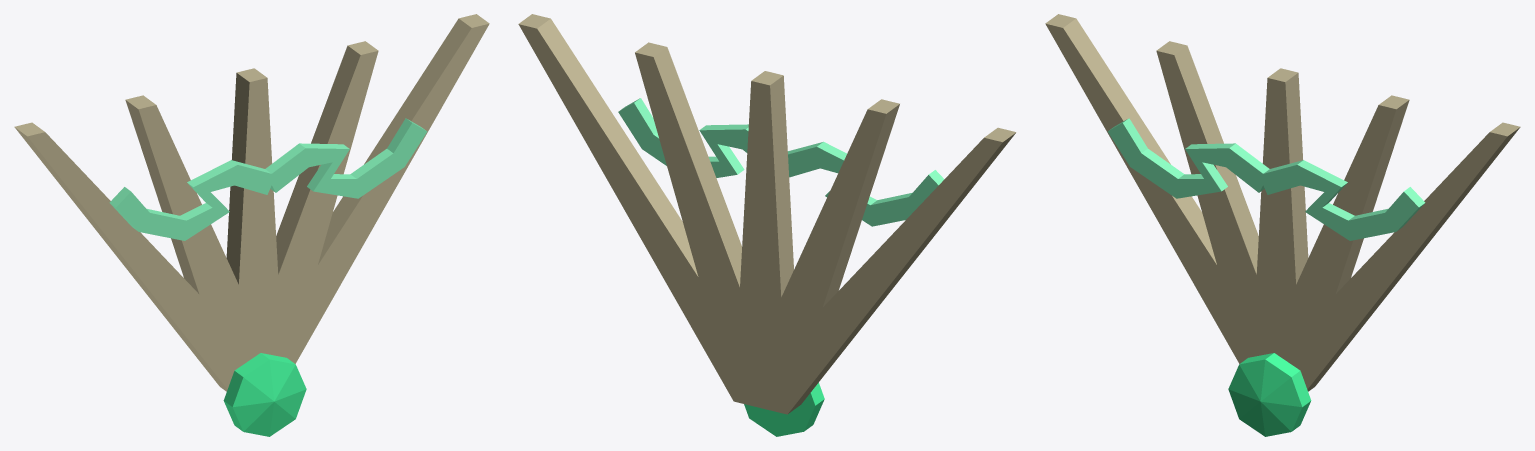
Rendered from cloud_bone_ribs.obj.
3 views of the same model, side by side, from view 1: azimuth 30°, elevation 25°; view 2: azimuth 150°, elevation 25°; view 3: azimuth 330°, elevation 25° (orthographic). The views are drawn at different scales.
Parts seen in each view (by area): view 1: rib_00, rib_02, rib_04, rib_03, rib_01, fan_hinge, bone_cloud_right, bone_cloud_left, rib_04_edge, rib_03_edge, rib_02_edge, rib_01_edge (+3 smaller); view 2: rib_00, rib_04, rib_03, rib_01, rib_02, rib_04_edge, rib_03_edge, rib_02_edge, bone_cloud_left, bone_cloud_right, rib_01_edge, rib_00_edge (+3 smaller); view 3: rib_04, rib_00, rib_02, rib_03, rib_01, fan_hinge, bone_cloud_left, bone_cloud_right, rib_00_edge, rib_01_edge, rib_02_edge, rib_03_edge (+3 smaller).
Part boxes in pixels (box(x1,y1,x2,y2)): rib_00: box(27, 132, 256, 389); rib_02: box(234, 78, 282, 370); rib_04: box(262, 23, 489, 363); rib_03: box(246, 51, 378, 361); rib_01: box(138, 105, 269, 382); fan_hinge: box(223, 353, 306, 436); bone_cloud_right: box(267, 123, 427, 198); bone_cloud_left: box(116, 165, 271, 240); rib_04_edge: box(318, 14, 489, 264); rib_03_edge: box(276, 41, 378, 274); rib_02_edge: box(226, 68, 267, 284); rib_01_edge: box(125, 95, 198, 293); rib_00: box(734, 137, 1002, 414); rib_04: box(518, 24, 785, 411); rib_03: box(635, 52, 786, 413); rib_01: box(734, 109, 886, 413); rib_02: box(733, 81, 786, 413); rib_04_edge: box(519, 14, 698, 276); rib_03_edge: box(635, 42, 741, 286); rib_02_edge: box(751, 71, 793, 296); bone_cloud_left: box(788, 147, 938, 226); bone_cloud_right: box(618, 103, 748, 177); rib_01_edge: box(823, 99, 899, 306); rib_00_edge: box(788, 127, 1016, 413); rib_04: box(1287, 132, 1507, 389); rib_00: box(1045, 23, 1273, 363); rib_02: box(1253, 78, 1300, 370); rib_03: box(1286, 105, 1396, 384); rib_01: box(1156, 51, 1289, 362); fan_hinge: box(1228, 353, 1311, 436); bone_cloud_left: box(1107, 123, 1267, 198); bone_cloud_right: box(1263, 165, 1418, 240); rib_00_edge: box(1045, 14, 1216, 264); rib_01_edge: box(1156, 41, 1258, 274); rib_02_edge: box(1267, 68, 1308, 284); rib_03_edge: box(1336, 95, 1409, 293).
Bounding box in the file's own units: 1.62 × 1.17 × 0.1759.
